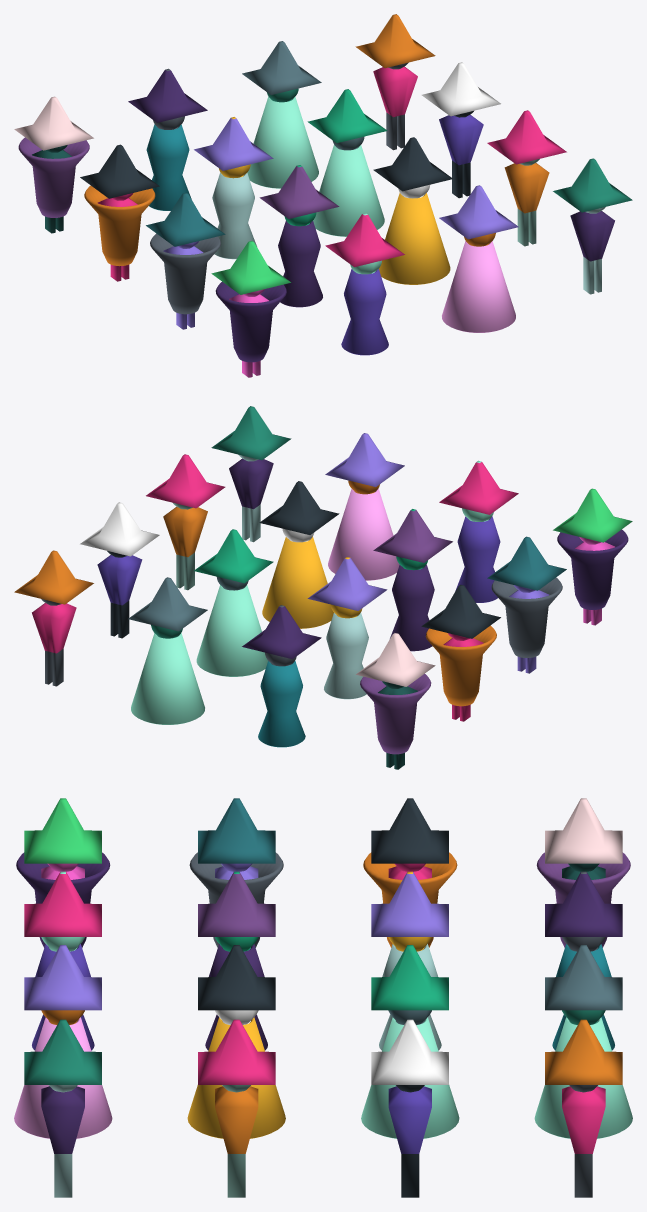
Rendered from npcs.fbx.
The picture shows the model from 3 angles, top to bottom: view 1: azimuth 30°, elevation 25°; view 2: azimuth 150°, elevation 25°; view 3: azimuth 270°, elevation 25°; orthographic projection. The views are drawn at different scales.
Visible parts, largest first — view 1: Wizard2, Wiz2Var2, Wiz2Var4, Wiz2Var3, Wiz4Var3, Wiz4Var4, Wizard4, Wiz4Var2, Wizard3, Wiz3Var2, Wiz3Var4, Wiz3Var3 (+4 smaller); view 2: Wiz2Var4, Wiz2Var3, Wizard2, Wiz2Var2, Wiz4Var2, Wizard4, Wiz4Var4, Wiz4Var3, Wiz3Var4, Wiz3Var3, Wizard3, Wiz3Var2 (+4 smaller); view 3: Wiz2Var2, Wiz2Var3, Wiz2Var4, Wizard2, Wiz1Var4, Wizard1, Wiz1Var2, Wiz1Var3, Wiz4Var4, Wizard4, Wiz4Var2, Wiz4Var3 (+4 smaller).
Boxes of the visible parts, left/top/right/bottom form: Wizard2: left=439, top=185, right=518, bottom=332; Wiz2Var2: left=373, top=137, right=452, bottom=284; Wiz2Var4: left=242, top=41, right=321, bottom=188; Wiz2Var3: left=307, top=89, right=387, bottom=236; Wiz4Var3: left=80, top=144, right=159, bottom=281; Wiz4Var4: left=14, top=96, right=93, bottom=233; Wizard4: left=211, top=241, right=290, bottom=377; Wiz4Var2: left=146, top=192, right=225, bottom=329; Wizard3: left=325, top=213, right=404, bottom=355; Wiz3Var2: left=259, top=165, right=339, bottom=307; Wiz3Var4: left=128, top=68, right=207, bottom=210; Wiz3Var3: left=194, top=117, right=273, bottom=259; Wiz2Var4: left=128, top=577, right=207, bottom=724; Wiz2Var3: left=194, top=529, right=273, bottom=676; Wizard2: left=325, top=433, right=404, bottom=580; Wiz2Var2: left=259, top=481, right=339, bottom=628; Wiz4Var2: left=487, top=536, right=566, bottom=673; Wizard4: left=553, top=488, right=632, bottom=625; Wiz4Var4: left=356, top=633, right=435, bottom=769; Wiz4Var3: left=421, top=584, right=500, bottom=721; Wiz3Var4: left=242, top=605, right=321, bottom=747; Wiz3Var3: left=307, top=557, right=387, bottom=699; Wizard3: left=439, top=460, right=518, bottom=602; Wiz3Var2: left=373, top=509, right=452, bottom=651; Wiz2Var2: left=187, top=945, right=285, bottom=1138; Wiz2Var3: left=361, top=945, right=459, bottom=1138; Wiz2Var4: left=534, top=945, right=632, bottom=1138; Wizard2: left=14, top=945, right=112, bottom=1138; Wiz1Var4: left=545, top=1019, right=622, bottom=1197; Wizard1: left=24, top=1019, right=101, bottom=1197; Wiz1Var2: left=198, top=1019, right=275, bottom=1197; Wiz1Var3: left=371, top=1019, right=448, bottom=1197; Wiz4Var4: left=536, top=798, right=630, bottom=947; Wizard4: left=16, top=798, right=110, bottom=947; Wiz4Var2: left=189, top=798, right=283, bottom=947; Wiz4Var3: left=363, top=798, right=457, bottom=947.
Bounding box in the file's own units: 1070 × 1049 × 333.
